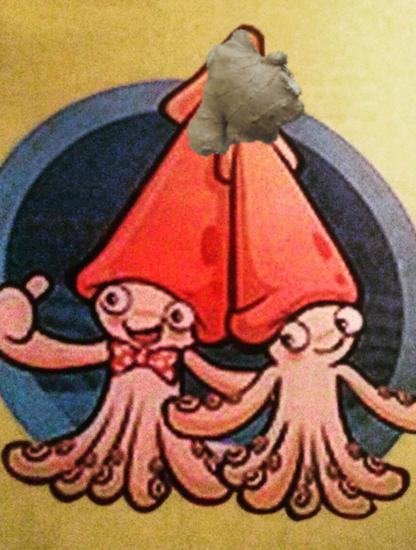Ginger: (168, 30, 304, 166)
